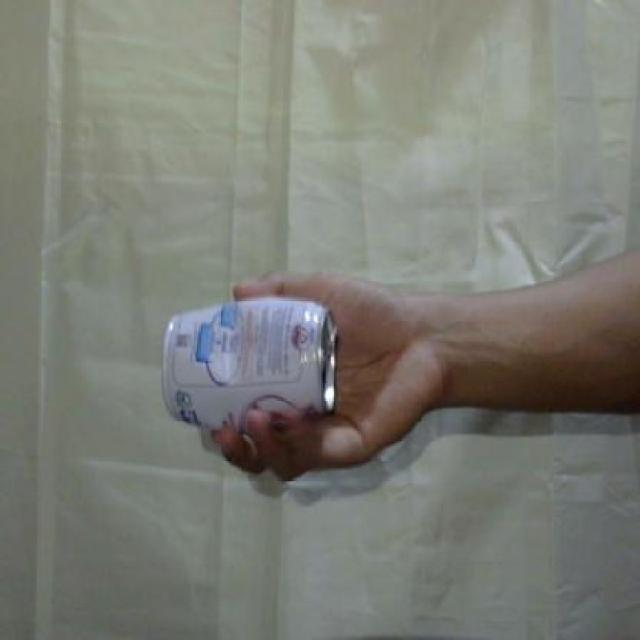Metal: (158, 290, 347, 437)
